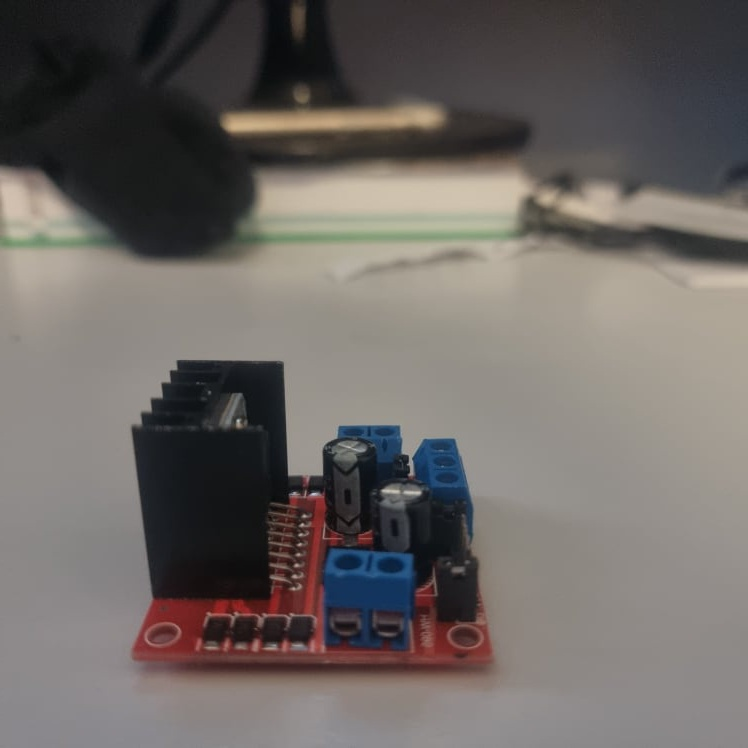MOTOR: (125, 357, 499, 668)
